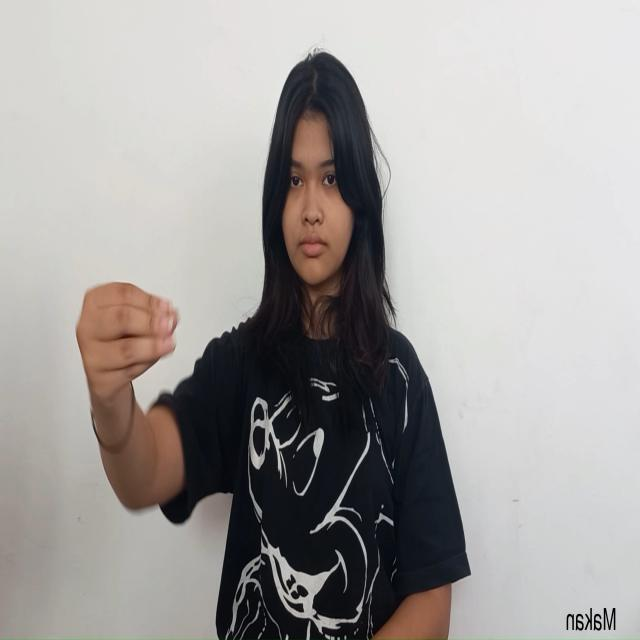Makan -BISINDO-: (76, 280, 182, 422)
